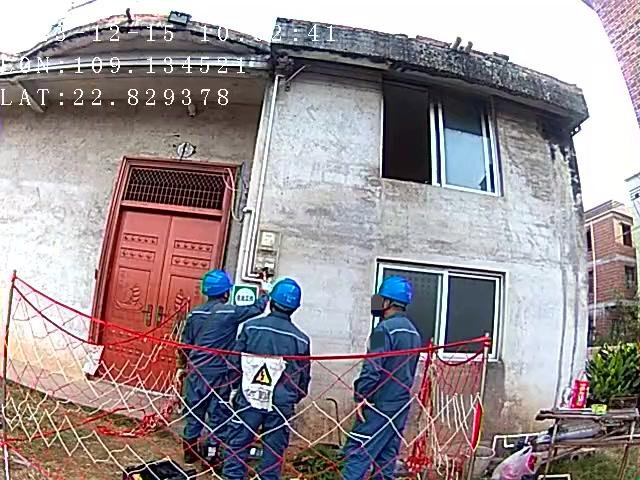halt: (376, 279, 416, 318), (269, 280, 305, 316), (204, 272, 237, 303)
